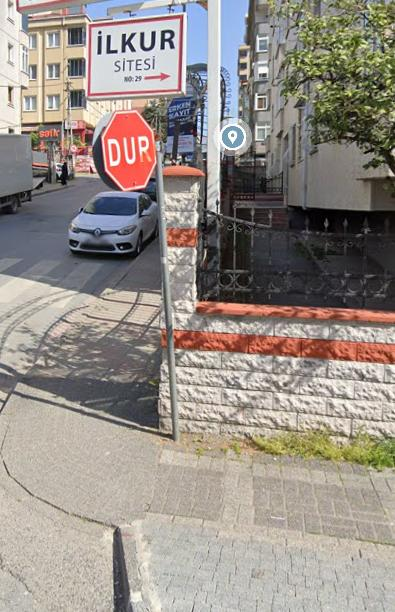stop: (104, 109, 154, 189)
